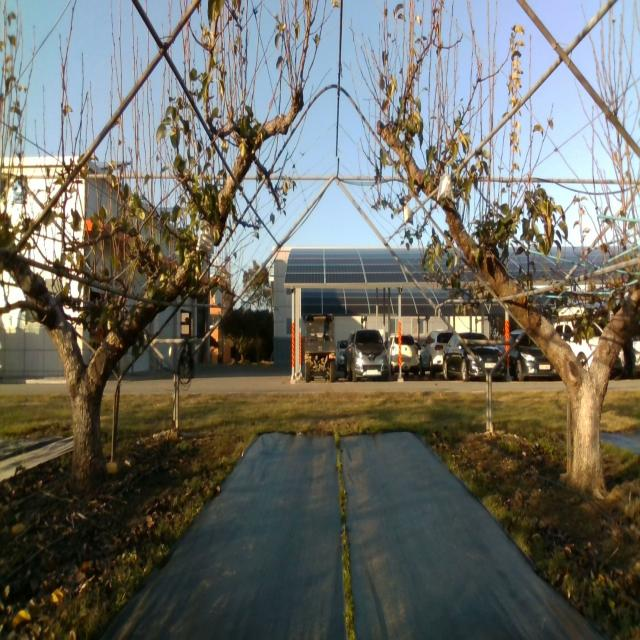pearbags: (437, 166, 455, 203), (196, 224, 214, 254)
